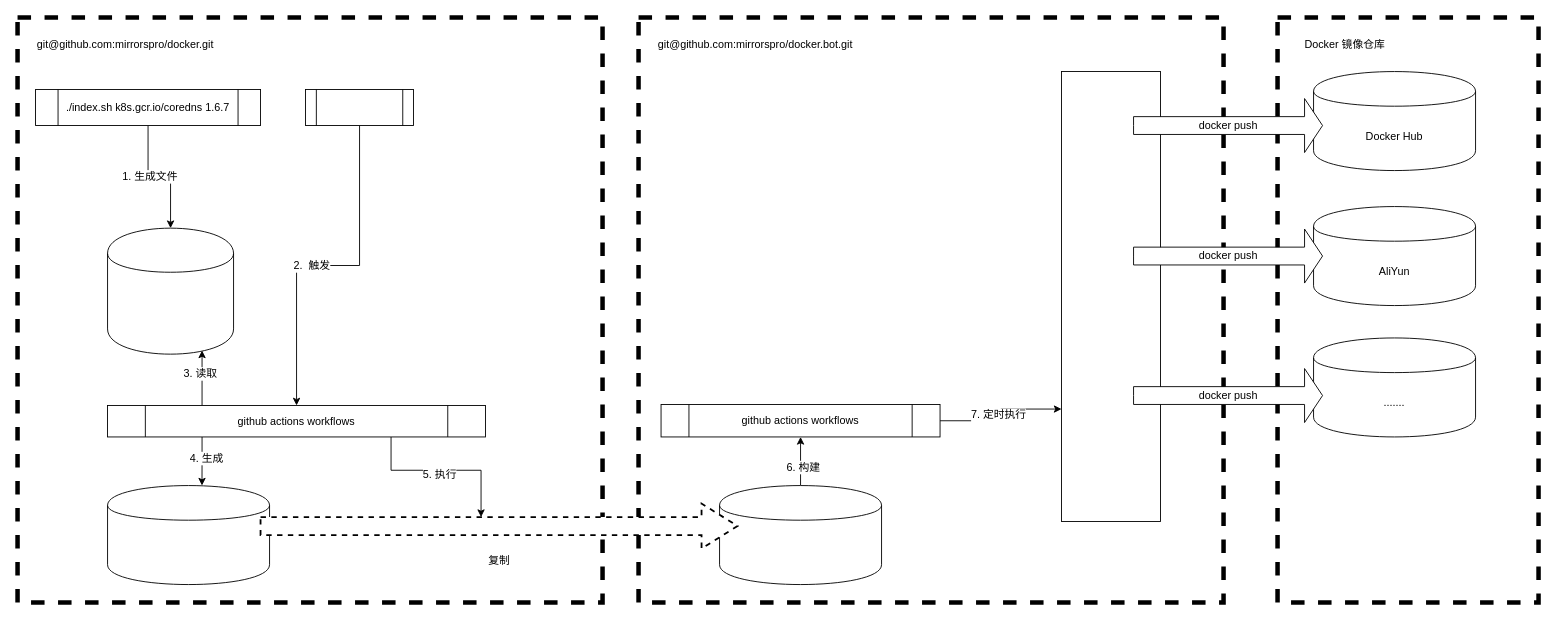
Image size: 1556x620. Some labels were removed from this diagram. The centre of each missing label's shape, as x and y in pixels:
./dist ├── k8s.gcr.io │ ├── coredns: point (170, 290)
./workflows |--k8s.gcr.io_ coredns.yml: point (188, 535)
.github/workflows |---- k8s.gcr.io_coredns.yml: point (800, 535)
docker pull: point (1111, 296)
git push: point (359, 107)
